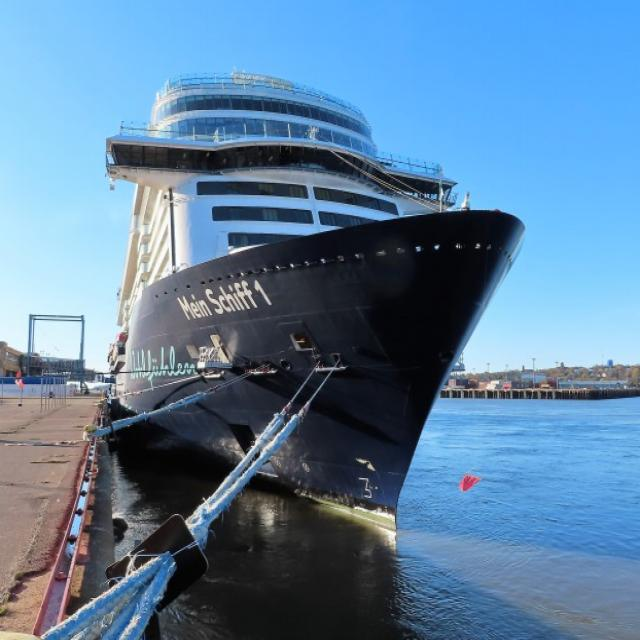cruises: (96, 62, 533, 542)
